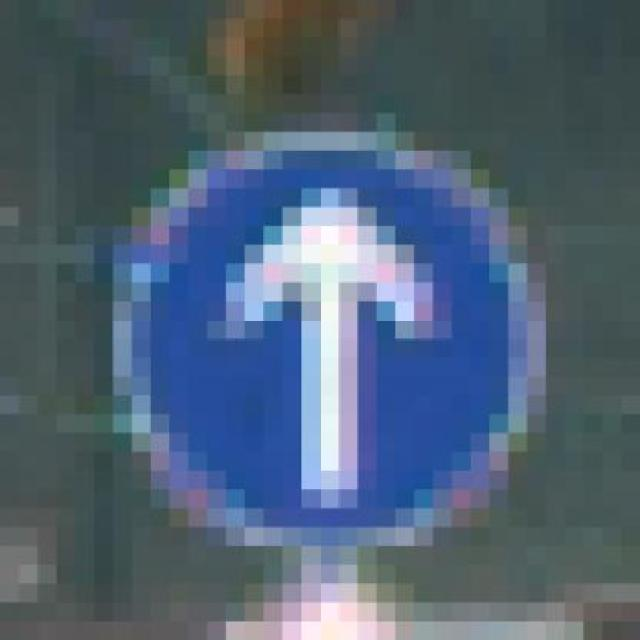Straight Ahead Only: (93, 113, 564, 584)
